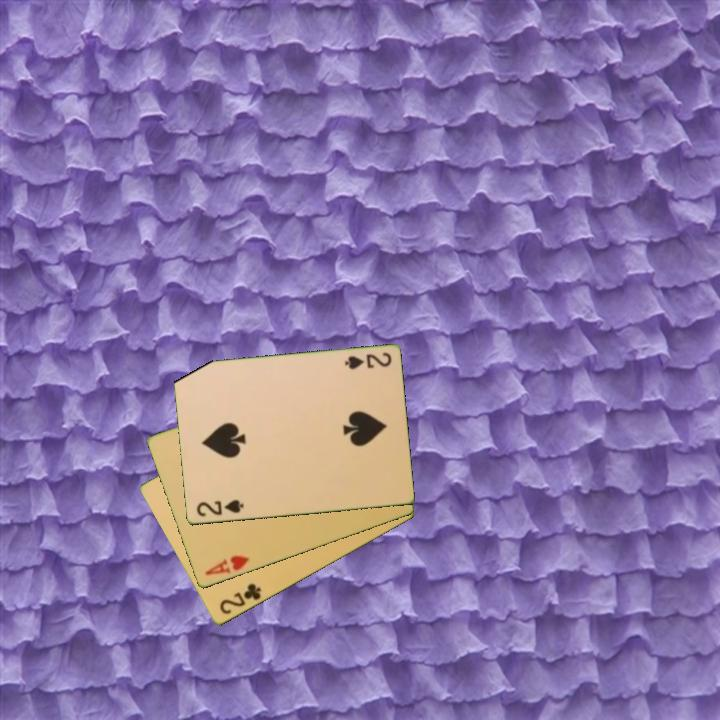2c: (216, 580, 264, 618)
2s: (341, 349, 394, 373), (193, 496, 246, 519)
Ah: (201, 552, 252, 579)
